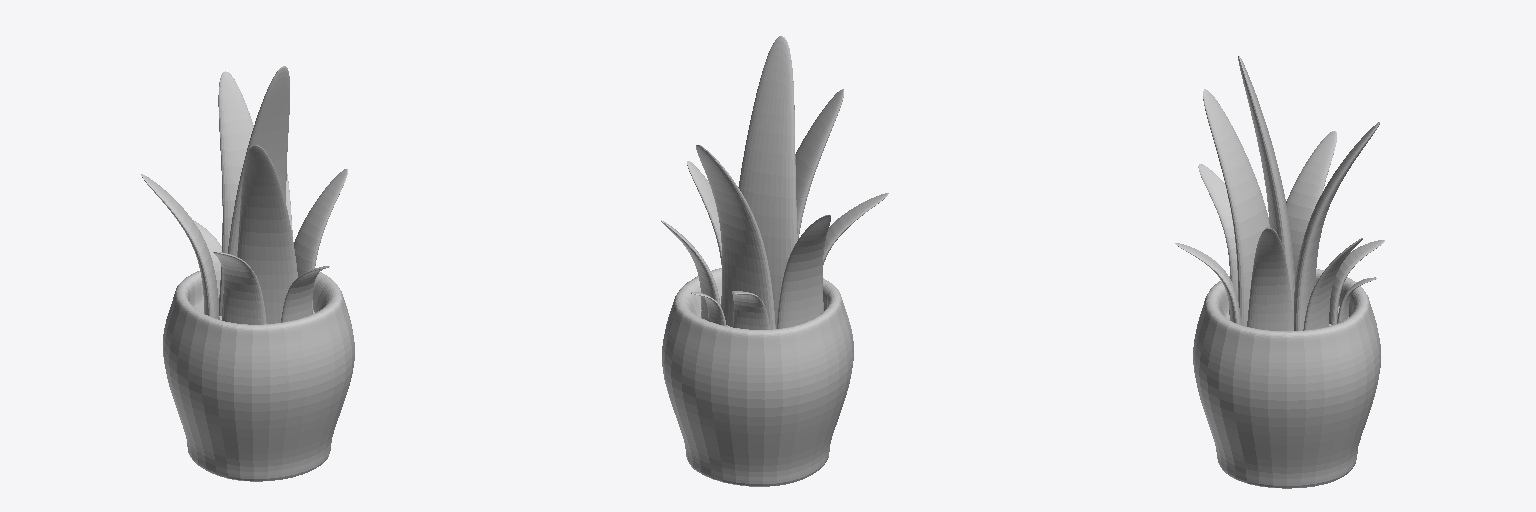
Rendered from AloePlant.obj.
3 renders of one model, left to right at view 1: azimuth 30°, elevation 25°; view 2: azimuth 150°, elevation 25°; view 3: azimuth 270°, elevation 25°, orthographic.
Visible parts, largest first — view 1: Aloe_Plant; view 2: Aloe_Plant; view 3: Aloe_Plant.
Part boxes in pixels (bbox=[...]): Aloe_Plant: bbox=[141, 66, 354, 481]; Aloe_Plant: bbox=[661, 36, 888, 486]; Aloe_Plant: bbox=[1175, 56, 1384, 488].
Bounding box in the file's own units: 2.25 × 4.97 × 2.32.